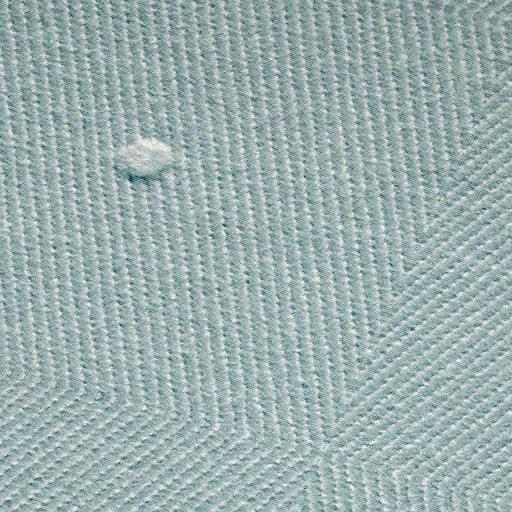knot: (108, 132, 187, 188)
